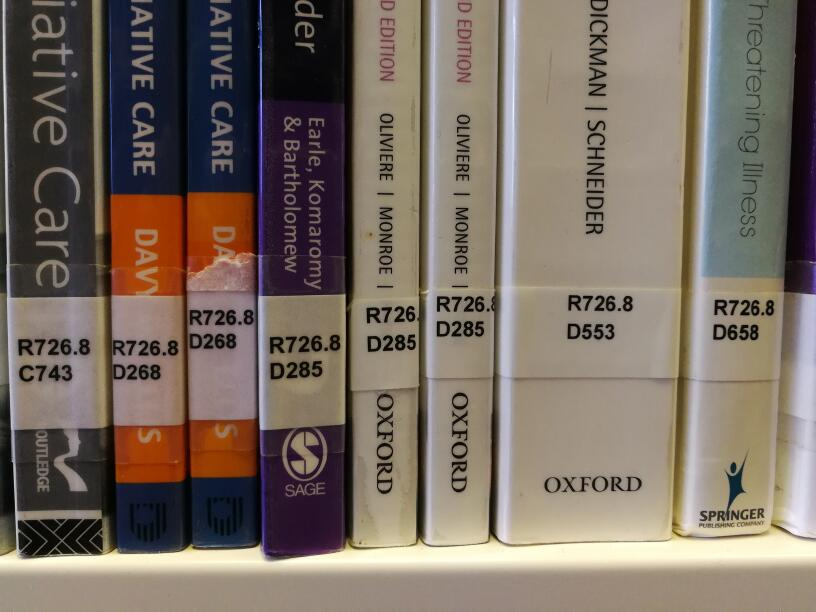booklabel: (14, 337, 94, 384), (267, 335, 345, 379), (565, 293, 635, 342), (111, 338, 181, 384), (710, 297, 775, 343), (362, 305, 419, 354), (188, 308, 254, 350), (433, 294, 496, 338)
